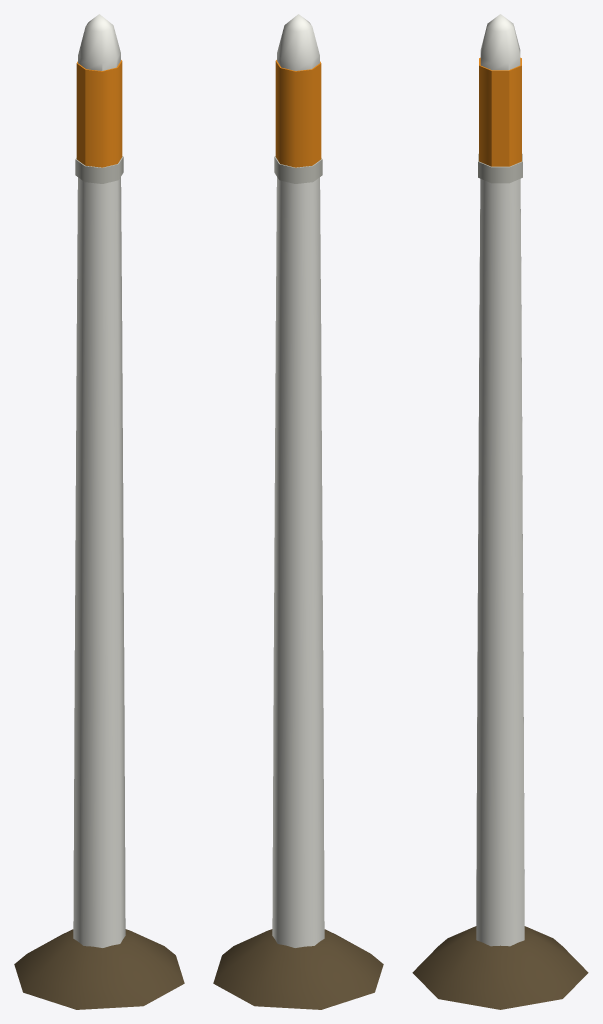
Rendered from ob_stake.glb.
3 renders of one model, left to right at view 1: azimuth 30°, elevation 25°; view 2: azimuth 150°, elevation 25°; view 3: azimuth 270°, elevation 25°, orthographic.
Visible parts, largest first — view 1: ob_stake_mesh; view 2: ob_stake_mesh; view 3: ob_stake_mesh.
Boxes of the visible parts, x1,y1,x2,y2 form: ob_stake_mesh: [14, 14, 184, 1009]; ob_stake_mesh: [213, 14, 383, 1009]; ob_stake_mesh: [412, 14, 588, 1009].
Bounding box in the file's own units: 0.2 × 1.2 × 0.2.
